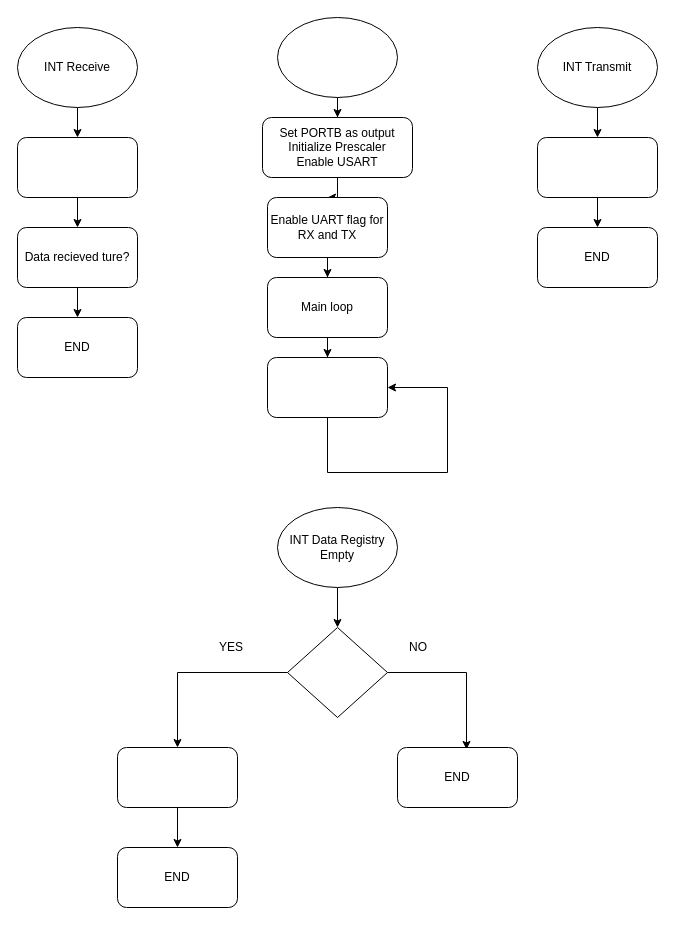
The diagram is 675 pixels wide and 925 high, and some of its shapes have lost their labels. Here are the shapes that lost their labels. From the top down, the box of each, then its label:
(276, 16, 398, 98): Start
(16, 136, 138, 198): Get ledState
(536, 136, 658, 198): Data recieved false?
(266, 356, 388, 418): Output ledState
(286, 626, 388, 718): Data recieved?
(116, 746, 238, 808): Tx data
